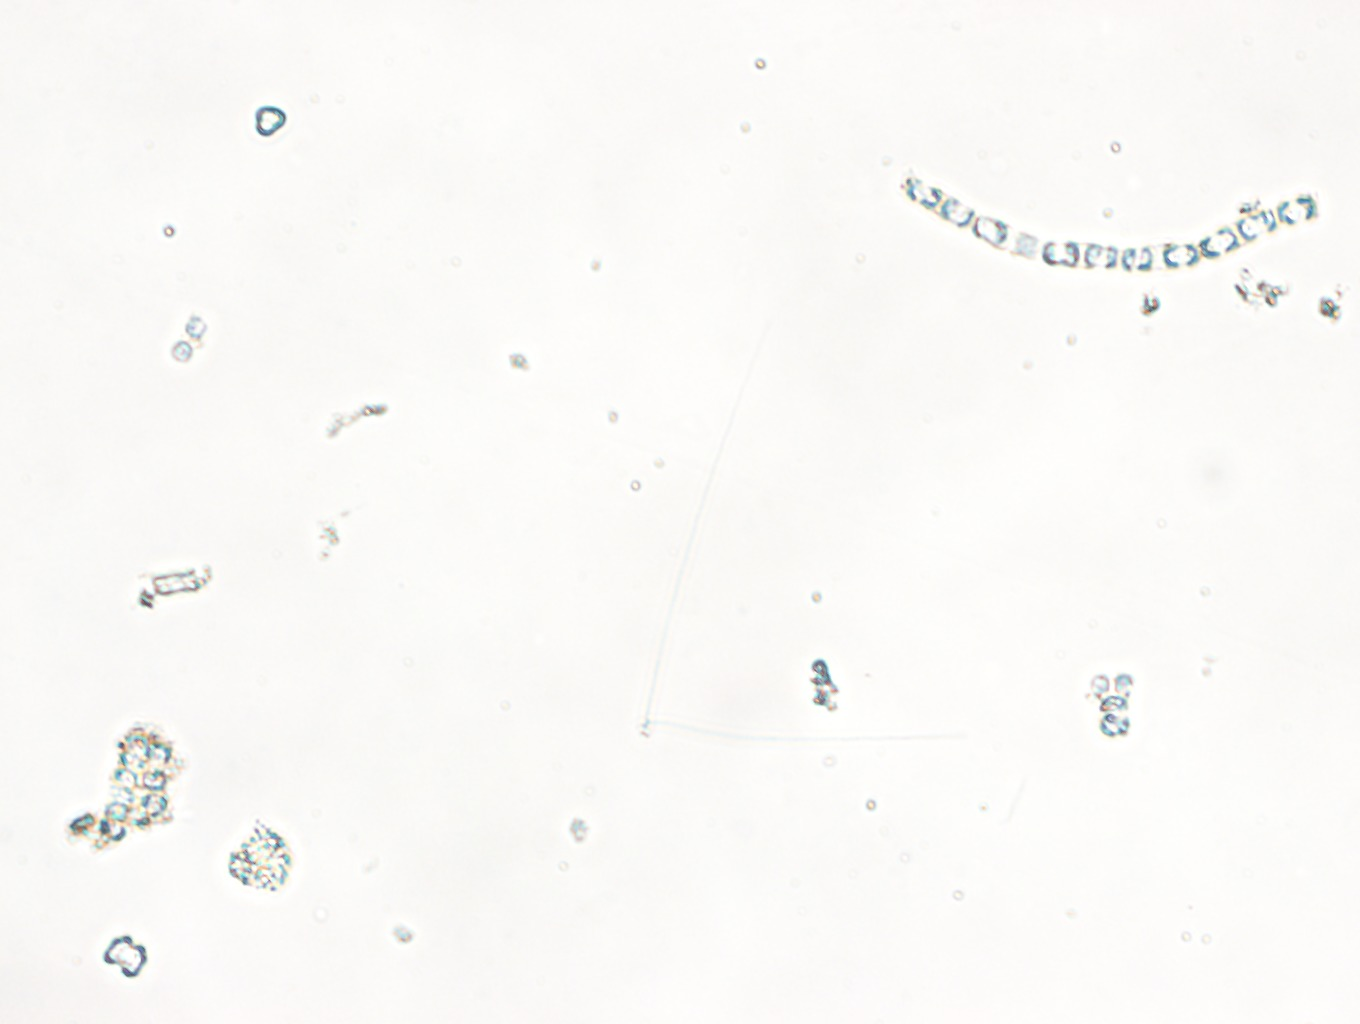skeletonema: (901, 175, 1318, 274)
